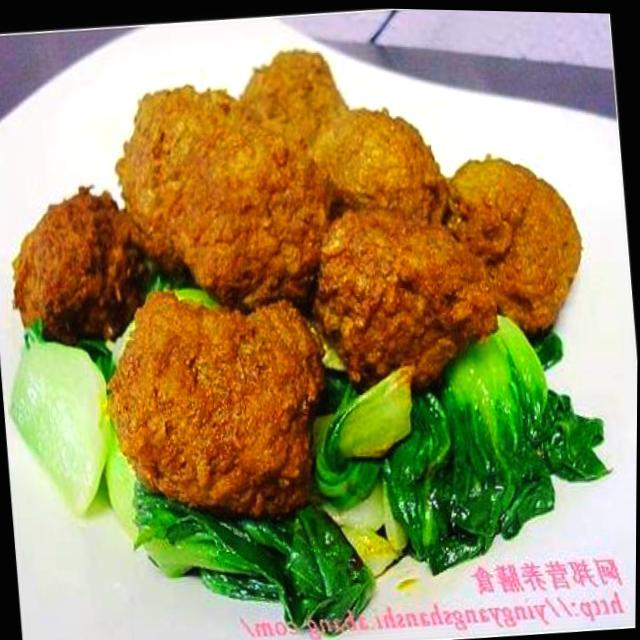猪肉菜式: (0, 10, 633, 619)
